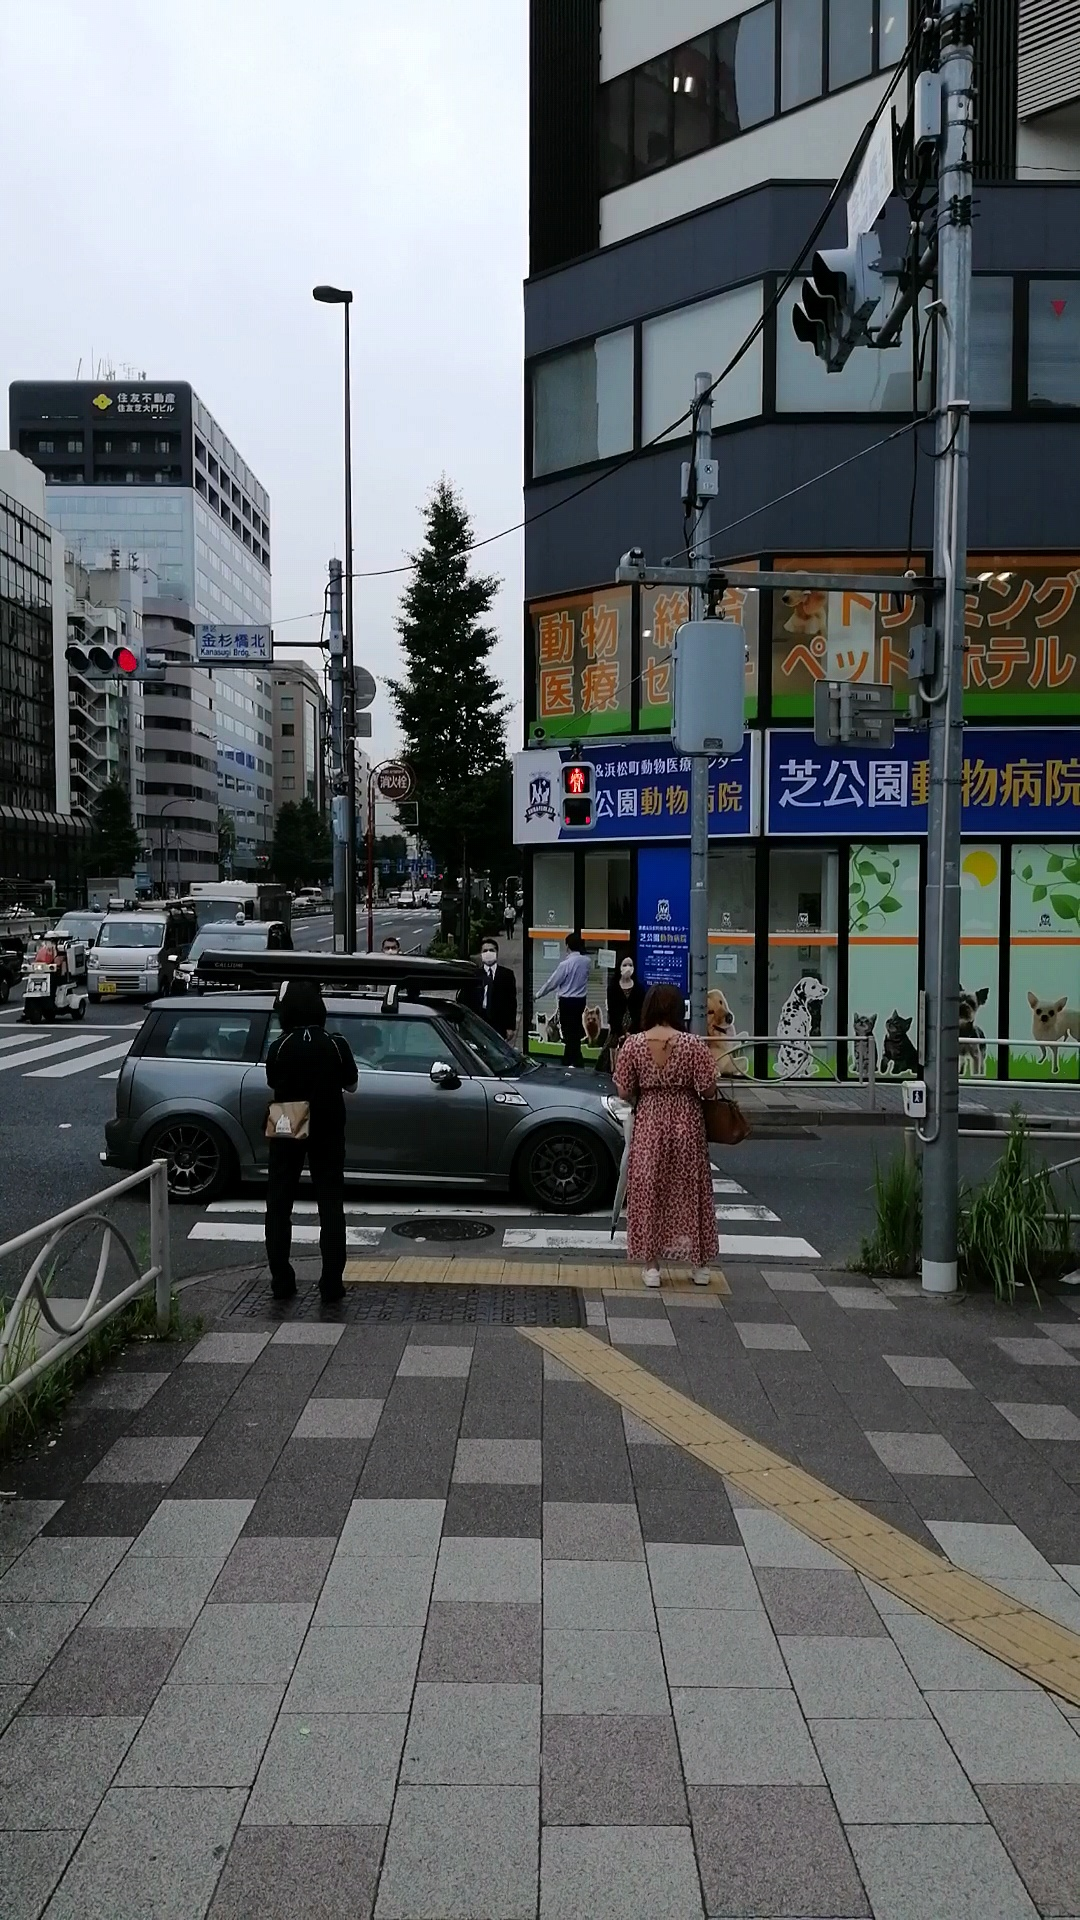red: (556, 756, 597, 832)
